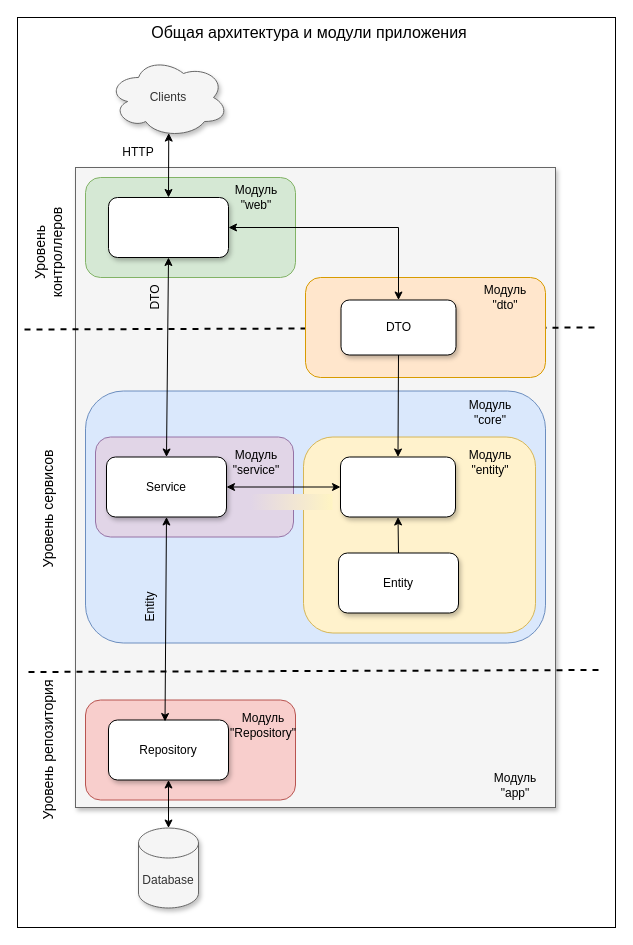
This 633x945 diagram has some shape labels left out. The shapes that lost their labels are listed below. From the top down, each one's centre as x and y in pixels, then its label:
the point at 169,228: Controllers
the point at 291,502: DTO <-> Entity
the point at 399,488: Mappers
